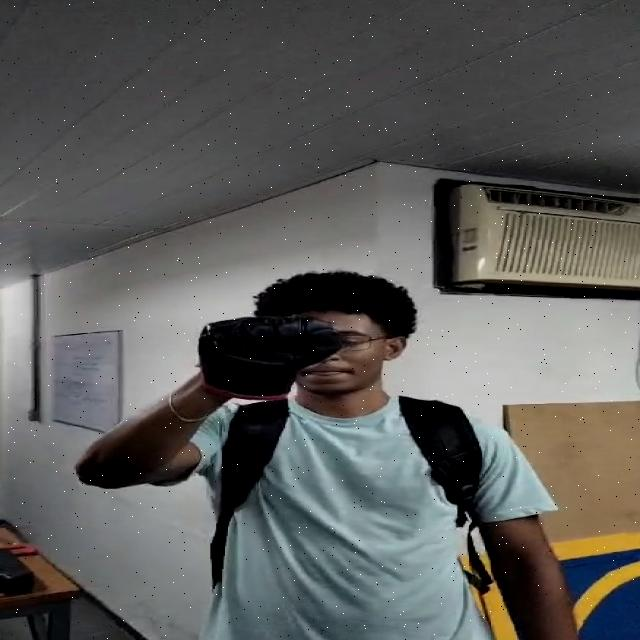Gloves: (192, 311, 346, 401)
